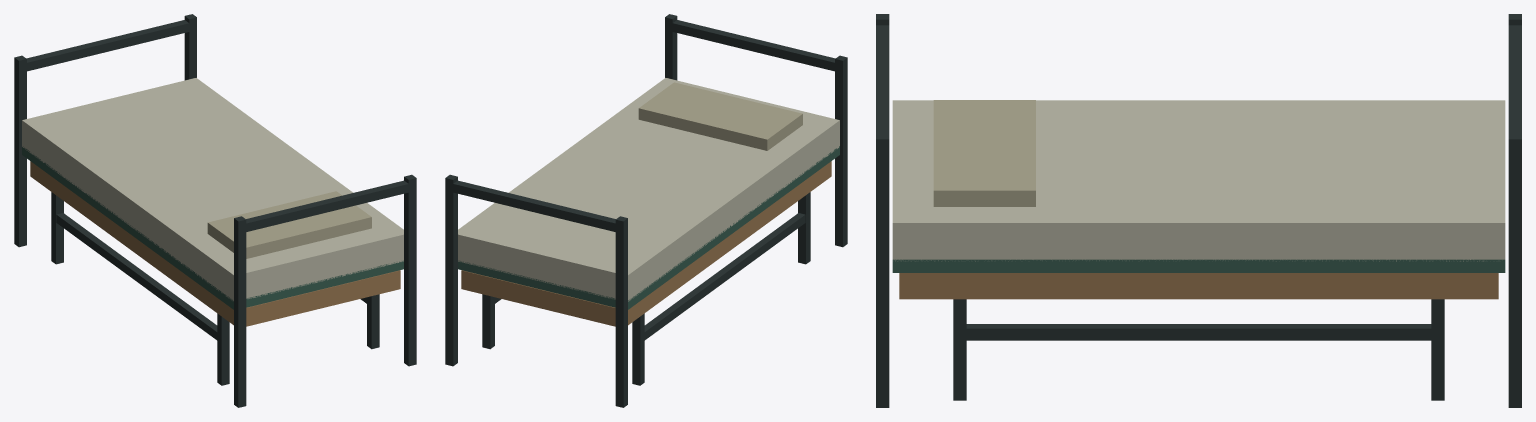
File: clinic_bed.glb
3 renders of one model, left to right at view 1: azimuth 30°, elevation 25°; view 2: azimuth 150°, elevation 25°; view 3: azimuth 270°, elevation 25°, orthographic. The views are drawn at different scales.
Visible parts, largest first — view 1: clinic_bed; view 2: clinic_bed; view 3: clinic_bed.
Part boxes in pixels (left/top/right/bottom): clinic_bed: left=14, top=14, right=416, bottom=407; clinic_bed: left=445, top=14, right=847, bottom=407; clinic_bed: left=876, top=14, right=1521, bottom=407.
Size of the model in its own units: 0.9 by 0.9 by 1.96.
